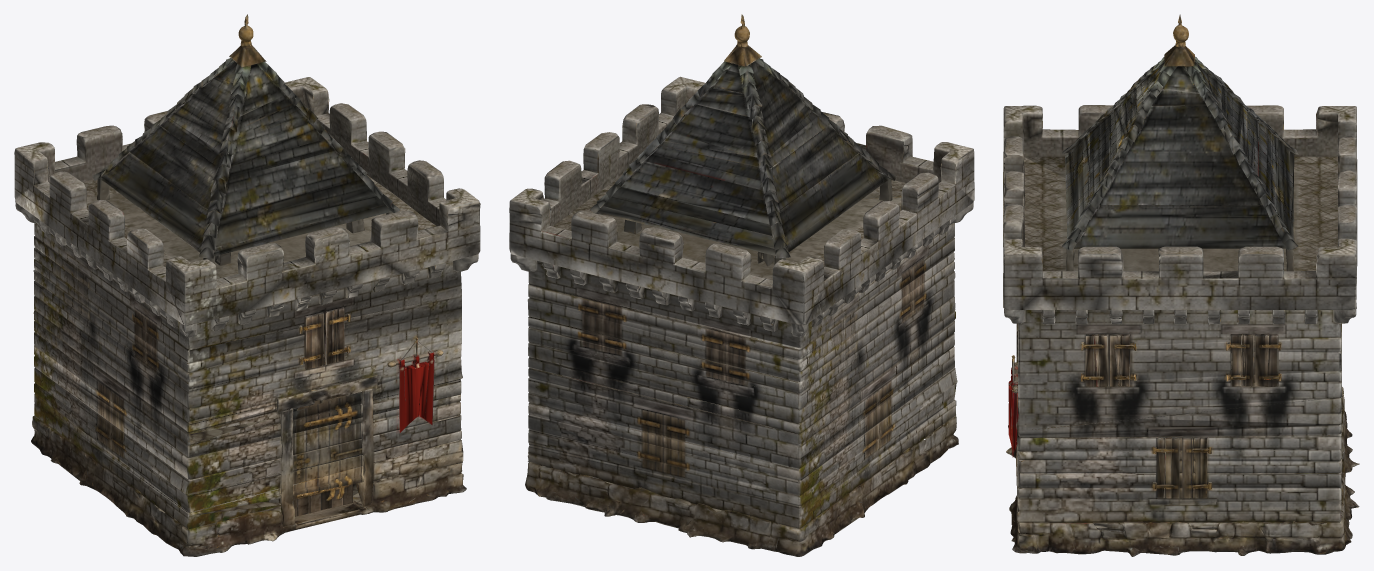
Rendered from cas-keep.fbx.
The picture shows the model from 3 angles, left to right: view 1: azimuth 30°, elevation 25°; view 2: azimuth 150°, elevation 25°; view 3: azimuth 270°, elevation 25°; orthographic projection. The views are drawn at different scales.
Visible parts, largest first — view 1: Mesh_0; view 2: Mesh_0; view 3: Mesh_0.
Part boxes in pixels (x1,y1,x2,y2): Mesh_0: (14,14,480,556); Mesh_0: (509,14,974,556); Mesh_0: (1003,14,1359,556).
Bounding box in the file's own units: 65.33 × 95.12 × 65.67.
1 material, 1 textured.
